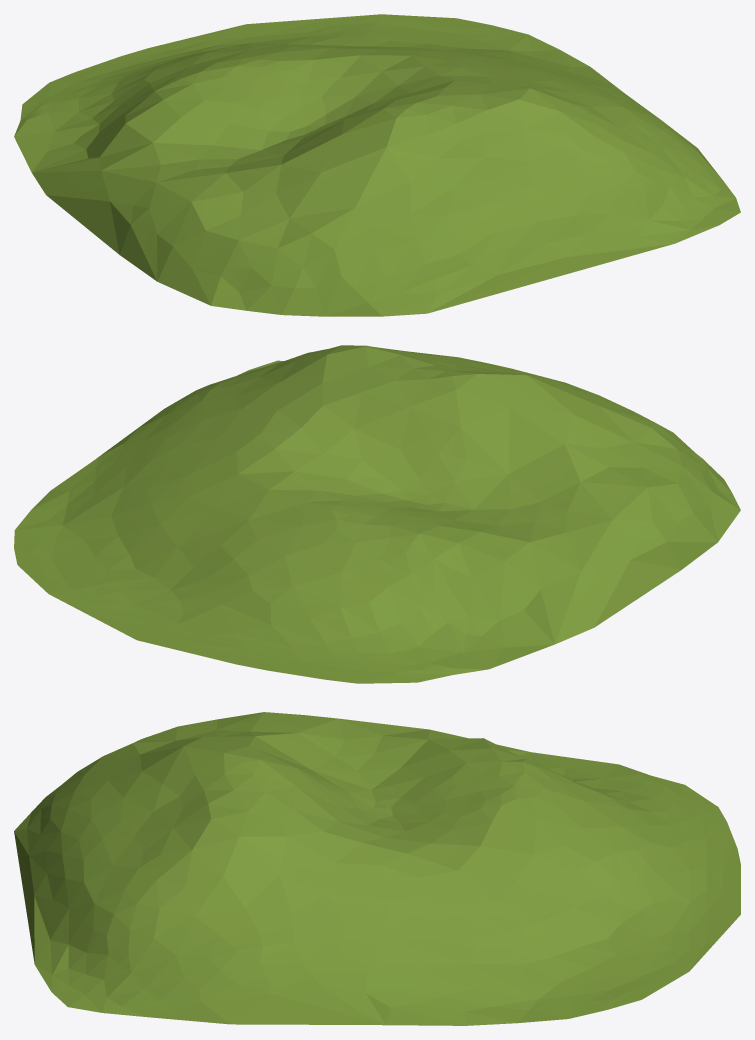
Rendered from Mesh_Landscape_Hill_06.FBX.
3 renders of one model, top to bottom at view 1: azimuth 30°, elevation 25°; view 2: azimuth 150°, elevation 25°; view 3: azimuth 270°, elevation 25°, orthographic. The views are drawn at different scales.
Visible parts, largest first — view 1: Mesh_Landscape_Hill_06; view 2: Mesh_Landscape_Hill_06; view 3: Mesh_Landscape_Hill_06.
Part boxes in pixels (<box>): Mesh_Landscape_Hill_06: <box>14,14,740,316</box>; Mesh_Landscape_Hill_06: <box>14,345,740,683</box>; Mesh_Landscape_Hill_06: <box>14,712,740,1025</box>.
Size of the model in its own units: 1917 by 2079 by 358.
